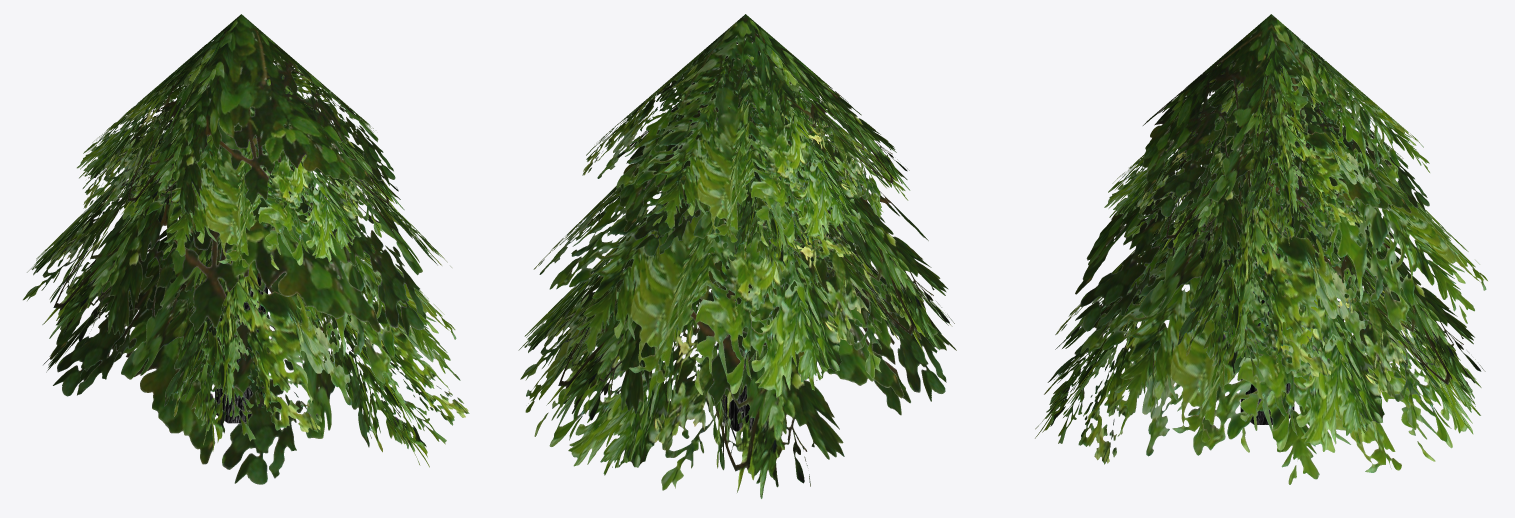
Rendered from Lowpoliderevo.fbx.
The picture shows the model from 3 angles, left to right: view 1: azimuth 30°, elevation 25°; view 2: azimuth 150°, elevation 25°; view 3: azimuth 270°, elevation 25°; orthographic projection. The views are drawn at different scales.
Parts seen in each view (by area): view 1: Cone; view 2: Cone; view 3: Cone.
Part boxes in pixels (x1,y1,x2,y2): Cone: [23, 14, 469, 484]; Cone: [518, 14, 956, 498]; Cone: [1035, 14, 1487, 484].
Bounding box in the file's own units: 204 × 192 × 209.
